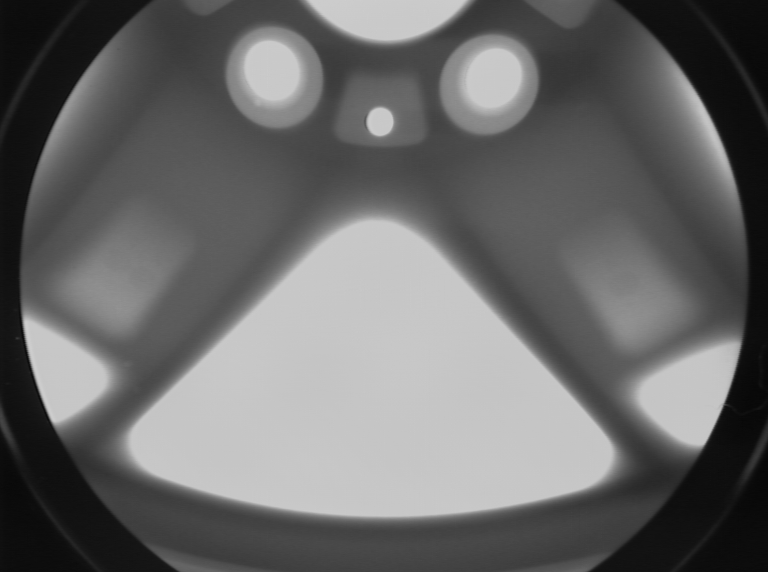defect: (128, 383, 144, 400)
